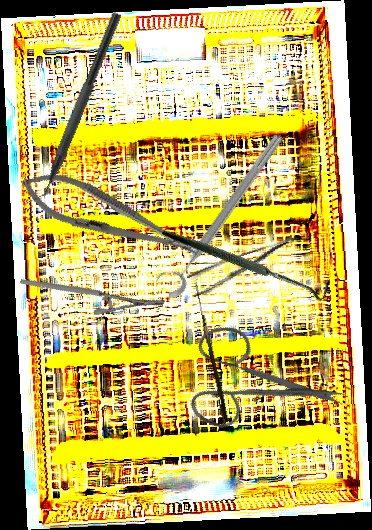Chopper: (23, 6, 122, 214)
Dressing Forceps: (186, 234, 303, 298)
Fixation Ring: (149, 123, 290, 303)
Hook Surgical: (161, 169, 337, 351), (188, 283, 232, 423)
Iris Scissors: (163, 287, 352, 469)
Needle Holder: (13, 159, 207, 275), (19, 235, 166, 348)
